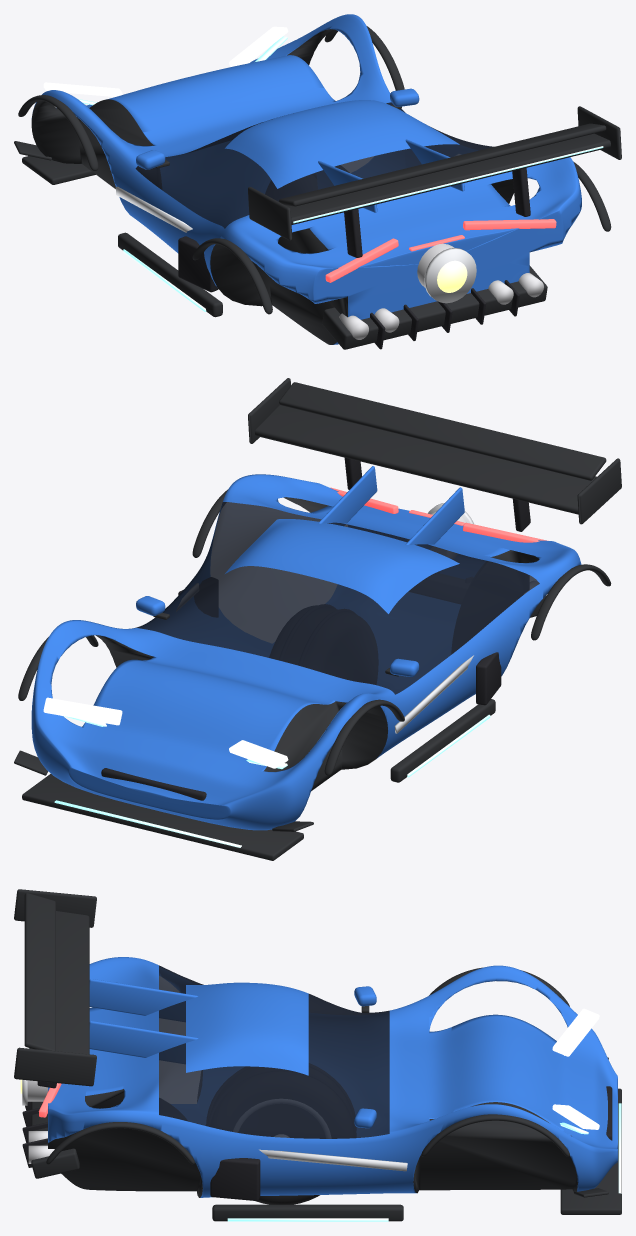
The model's file is lancer.glb.
The picture shows the model from 3 angles, top to bottom: view 1: azimuth 30°, elevation 25°; view 2: azimuth 150°, elevation 25°; view 3: azimuth 270°, elevation 25°; orthographic projection.
Parts seen in each view (by area): view 1: Body; view 2: Body, Wheel; view 3: Body, Wheel.
Boxes of the visible parts, x1,y1,x2,y2 form: Body: (14, 14, 621, 349); Body: (14, 378, 621, 860); Wheel: (270, 606, 377, 684); Body: (14, 889, 621, 1221); Wheel: (206, 1066, 353, 1204).
Size of the model in its own units: 1.03 by 0.6706 by 1.59.
